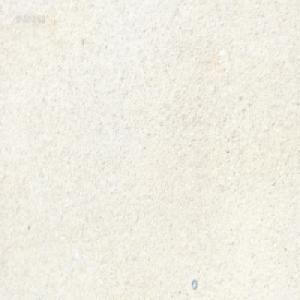Washer: (191, 278, 197, 290)
